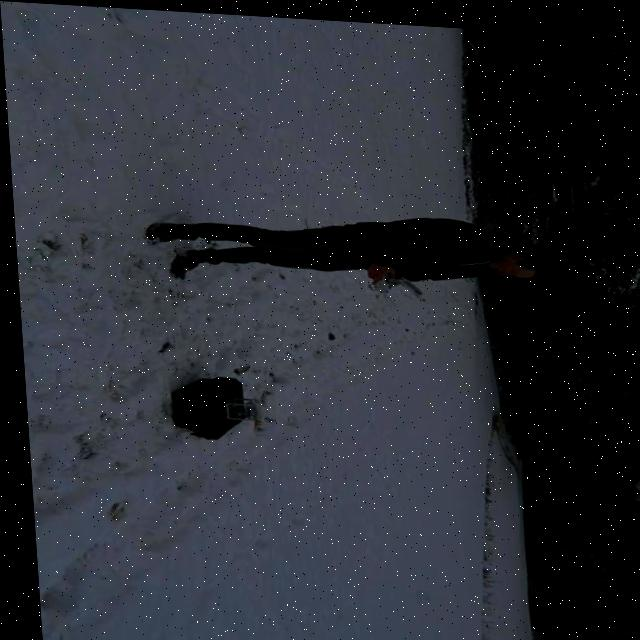drone: (219, 384, 275, 431)
